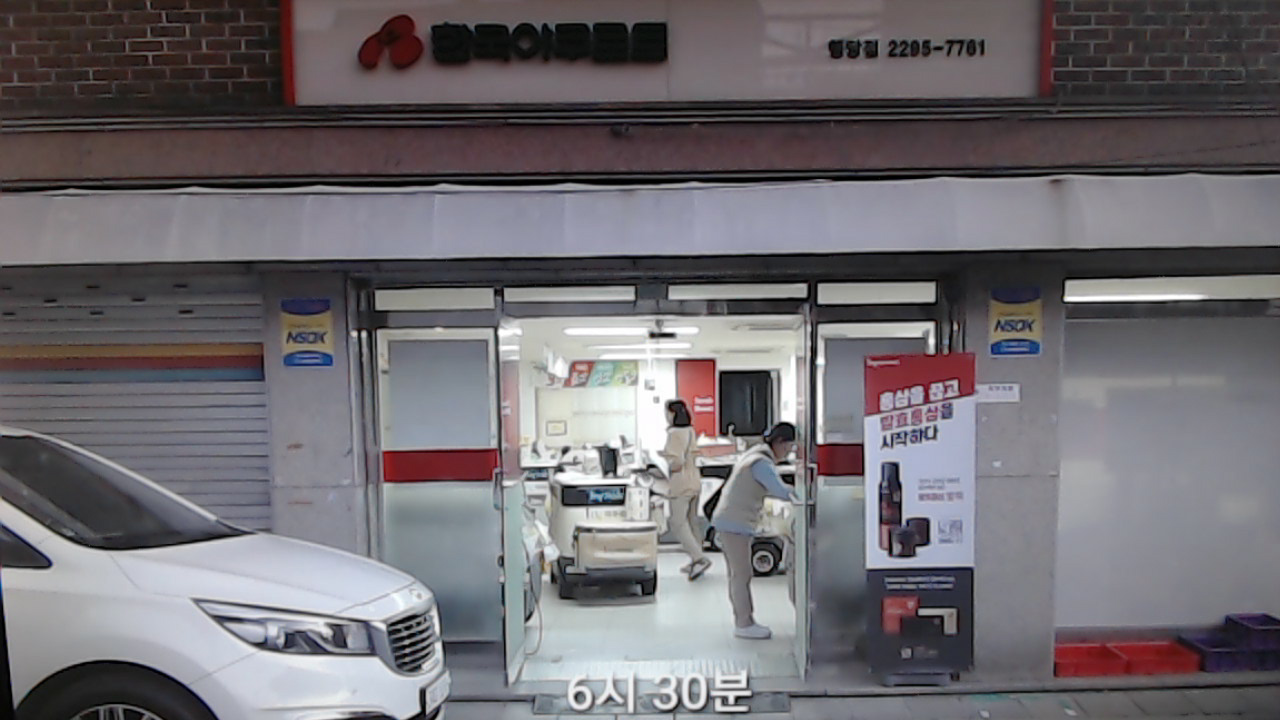Yakurut: (721, 424, 806, 655), (652, 402, 718, 591)
